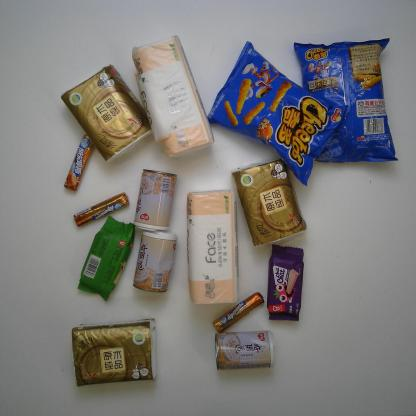Candy: (55, 129, 96, 188), (215, 291, 266, 331), (72, 194, 131, 227)
Canned Food: (135, 226, 178, 296), (135, 168, 176, 230), (213, 331, 274, 370)
Dessert: (73, 217, 134, 297), (261, 243, 309, 324)
Puffed Food: (203, 41, 348, 185), (294, 25, 401, 169)
Tissue: (132, 32, 216, 153), (61, 64, 154, 160), (186, 185, 242, 308), (230, 158, 306, 248), (70, 319, 156, 388)
